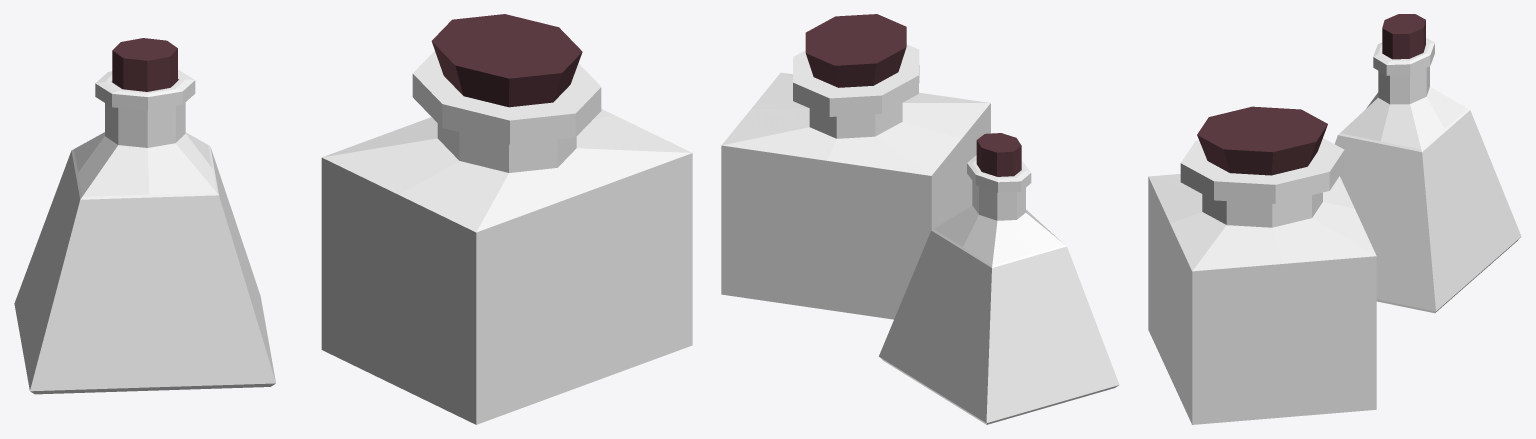
File: poçõesv2.fbx
3 views of the same model, side by side, from view 1: azimuth 30°, elevation 25°; view 2: azimuth 150°, elevation 25°; view 3: azimuth 270°, elevation 25° (orthographic). The views are drawn at different scales.
Parts seen in each view (by area): view 1: PoçãoTriangular.001; view 2: PoçãoTriangular.001; view 3: PoçãoTriangular.001.
Part boxes in pixels (left/top/right/bottom): PoçãoTriangular.001: left=14, top=14, right=692, bottom=424; PoçãoTriangular.001: left=721, top=14, right=1119, bottom=424; PoçãoTriangular.001: left=1148, top=14, right=1521, bottom=424.
Bounding box in the file's own units: 0.353 × 0.1848 × 0.2599.
